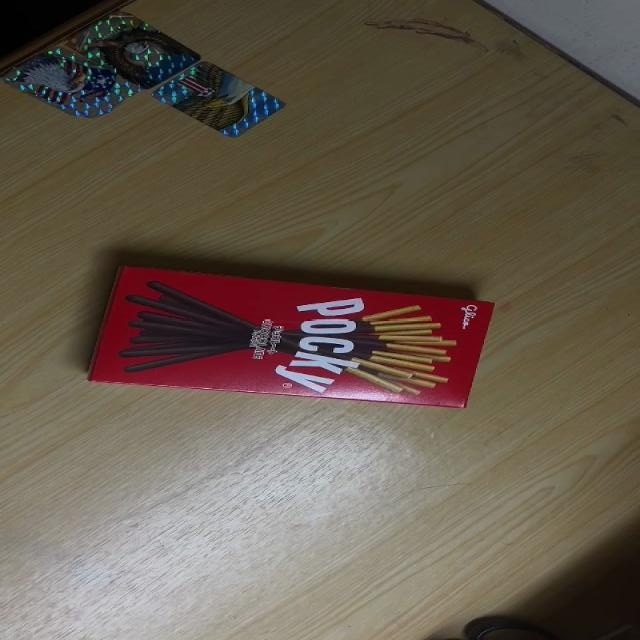Pocky: (83, 265, 496, 410)
